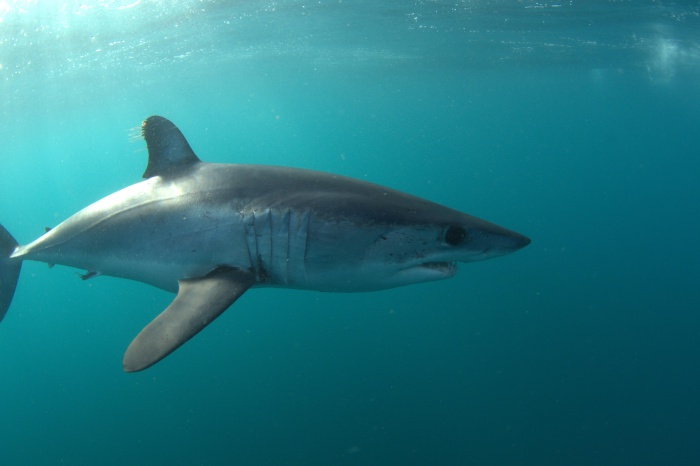Mako: (1, 109, 560, 381)
